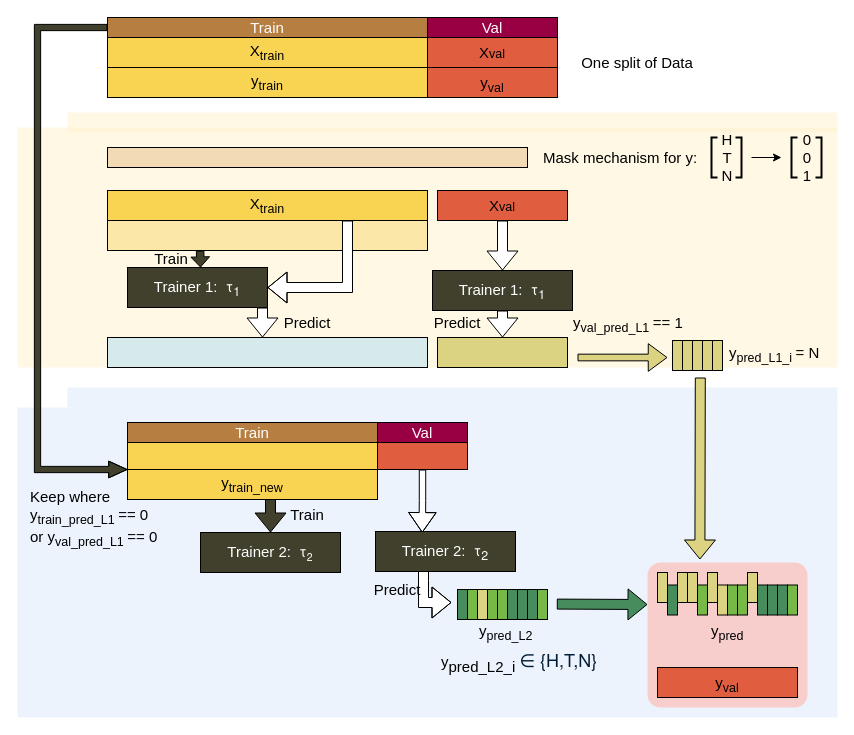
This 854x735 diagram has some shape labels left out. Here are the shapes that lost their labels. From the top down, the centre of each, then its label:
the point at 452,122: Level 1 C ASCADE. Goal: coarse sifting of N
the point at 317,157: mask
the point at 267,235: y train_masked
the point at 267,352: y train_pred_L1
the point at 502,352: y val_pred_L1
the point at 452,397: Level 2 C ASCADE . Goal: fine classification of H, T, and a smaller portion of N
the point at 252,454: X train_new
the point at 422,454: X val_new
